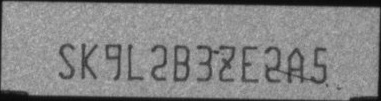2: (263, 44, 282, 84), (151, 43, 168, 81)
3: (196, 43, 213, 81)
5: (310, 45, 329, 85)
9: (105, 43, 123, 81)
A: (287, 46, 305, 84)
B: (172, 44, 190, 82)
E: (240, 43, 258, 82)
K: (80, 41, 98, 79)
L: (127, 44, 144, 81)
S: (57, 42, 76, 79)
Z: (219, 42, 235, 82)
